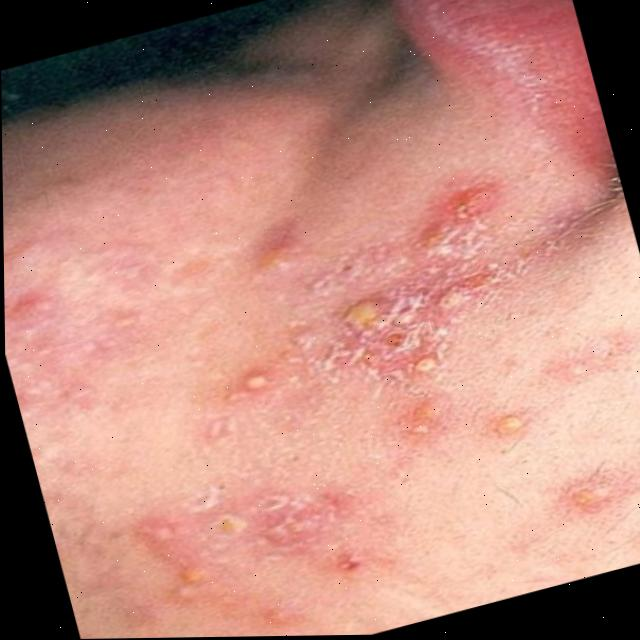Rosacea: (73, 162, 604, 637)
